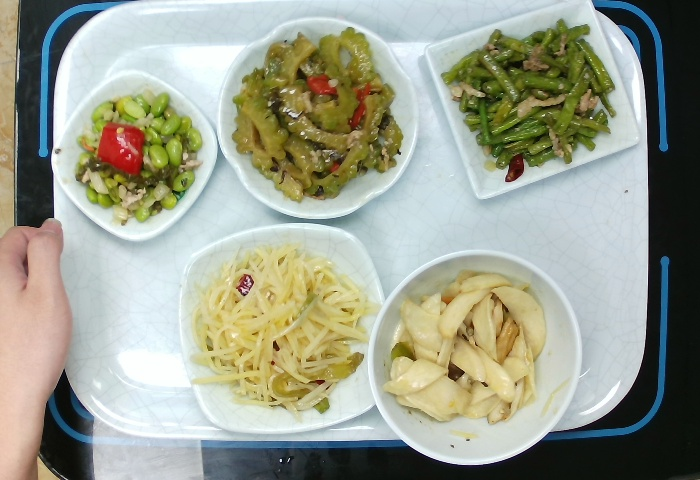JYsf-Ao_Yuan_Wan: (216, 12, 424, 225)
JYsf-Fan_Wan: (362, 245, 587, 471)
JYsf-Si_Fang_Die: (49, 69, 222, 244)
WCQzf-Da_Si_Fang_Die: (174, 222, 394, 439)
WCQzf-Ru_Ci_Si_Fang_Die: (422, 1, 644, 206)
